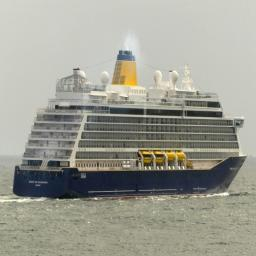cruises: (13, 48, 249, 200)
